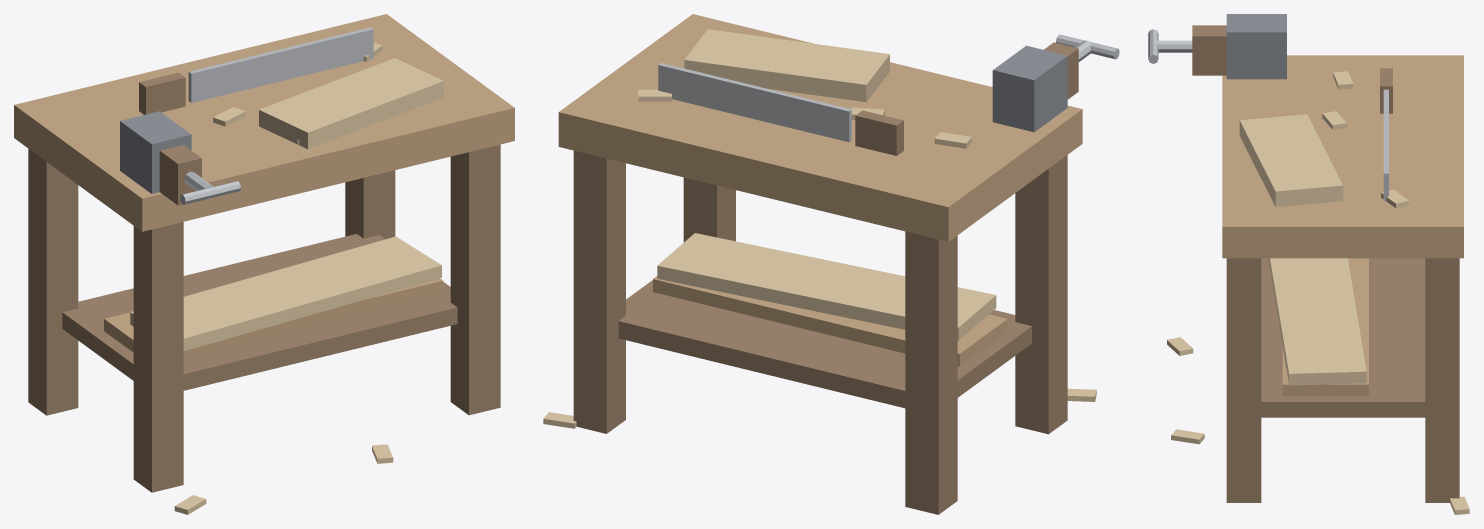
Rendered from furniture_carpenter_bench.glb.
The picture shows the model from 3 angles, left to right: view 1: azimuth 30°, elevation 25°; view 2: azimuth 150°, elevation 25°; view 3: azimuth 270°, elevation 25°; orthographic projection. The views are drawn at different scales.
Visible parts, largest first — view 1: wood_dark, wood, wood_light, metal, metal_dark; view 2: wood_dark, wood, wood_light, metal, metal_dark; view 3: wood, wood_dark, wood_light, metal_dark, metal.
Part boxes in pixels (<box>): wood_dark: <box>28,72,500,492</box>; wood: <box>14,14,514,356</box>; wood_light: <box>130,43,443,514</box>; metal: <box>180,27,373,204</box>; metal_dark: <box>120,111,191,193</box>; wood_dark: <box>573,42,1078,514</box>; wood: <box>558,14,1082,366</box>; wood_light: <box>543,29,1096,428</box>; metal: <box>658,34,1119,142</box>; metal_dark: <box>992,45,1067,132</box>; wood: <box>1222,55,1463,396</box>; wood_dark: <box>1192,25,1459,502</box>; wood_light: <box>1167,71,1469,514</box>; metal_dark: <box>1226,14,1286,79</box>; metal: <box>1148,29,1388,201</box>.
Size of the model in its own units: 0.9755 by 0.84 by 0.7453.
